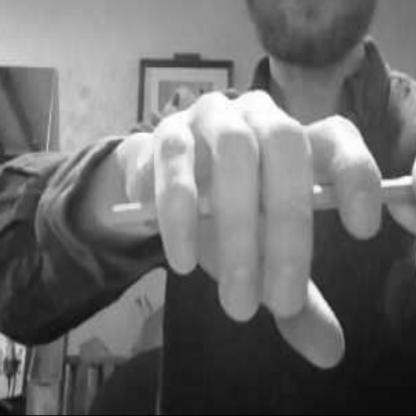good: (149, 85, 393, 317)
